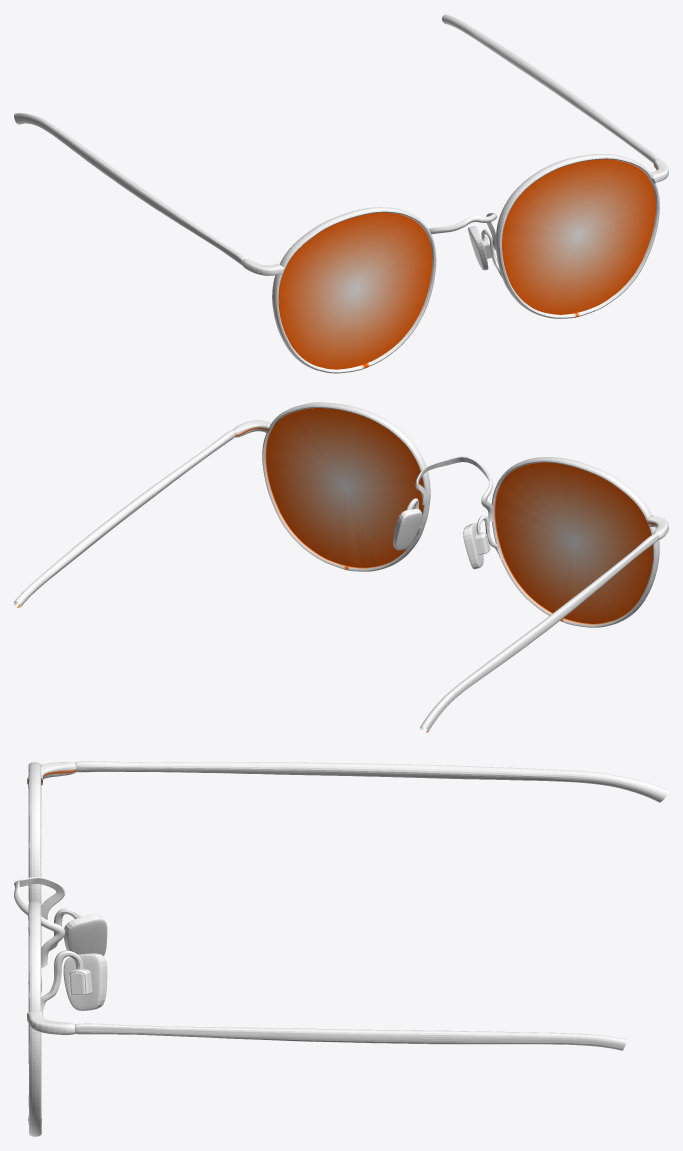
The model's file is glass3.glb.
The picture shows the model from 3 angles, top to bottom: view 1: azimuth 30°, elevation 25°; view 2: azimuth 150°, elevation 25°; view 3: azimuth 270°, elevation 25°; orthographic projection. The views are drawn at different scales.
Visible parts, largest first — view 1: MOSCOT_ZEV_TT_SE; view 2: MOSCOT_ZEV_TT_SE; view 3: MOSCOT_ZEV_TT_SE.
Boxes of the visible parts, x1,y1,x2,y2 form: MOSCOT_ZEV_TT_SE: [14, 14, 668, 373]; MOSCOT_ZEV_TT_SE: [14, 402, 668, 732]; MOSCOT_ZEV_TT_SE: [14, 761, 668, 1136].
Size of the model in its own units: 2.25 by 0.7991 by 2.3.
6 materials, 6 textured.
